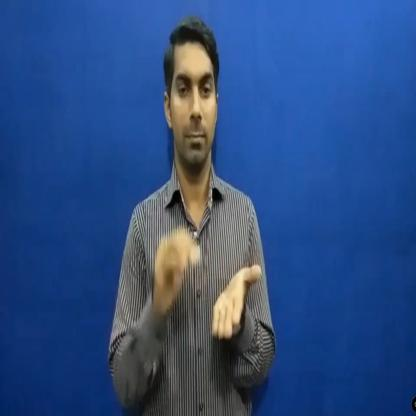ExcuseMe: (145, 214, 269, 364)
